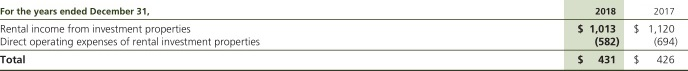column: (1, 1, 260, 71), (590, 1, 619, 71), (649, 1, 677, 71), (633, 1, 640, 71), (577, 1, 583, 71)
row: (1, 23, 688, 34), (1, 36, 687, 47), (1, 54, 688, 64), (1, 7, 687, 16)
